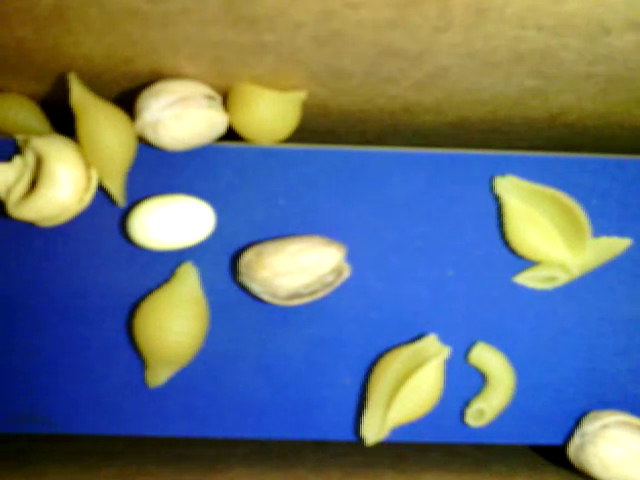elbow: (462, 340, 515, 426)
penne: (507, 235, 631, 294)
shell: (353, 330, 454, 448), (125, 260, 210, 388), (488, 174, 595, 275), (66, 72, 139, 208), (225, 81, 307, 145), (1, 92, 61, 139)
tortellini: (1, 136, 99, 228)
